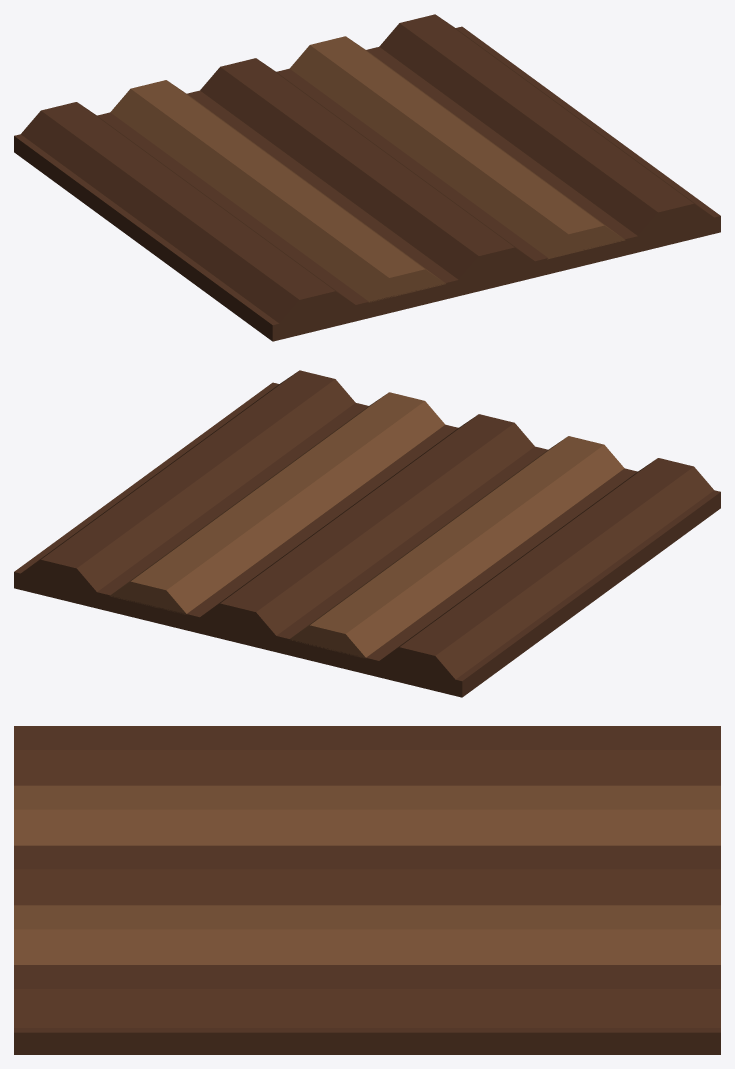
The model's file is 42_tilled_ground_straight.fbx.
3 views of the same model, one above another, from view 1: azimuth 30°, elevation 25°; view 2: azimuth 150°, elevation 25°; view 3: azimuth 270°, elevation 25° (orthographic). The views are drawn at different scales.
Visible parts, largest first — view 1: 42_tilled_ground_straight; view 2: 42_tilled_ground_straight; view 3: 42_tilled_ground_straight.
Part boxes in pixels (box(x1,y1,x2,y2)): 42_tilled_ground_straight: box(14, 14, 720, 341); 42_tilled_ground_straight: box(14, 370, 720, 697); 42_tilled_ground_straight: box(14, 726, 720, 1054).
Size of the model in its own units: 2 by 0.15 by 2.
Materials: 1 (1 with a texture image).
